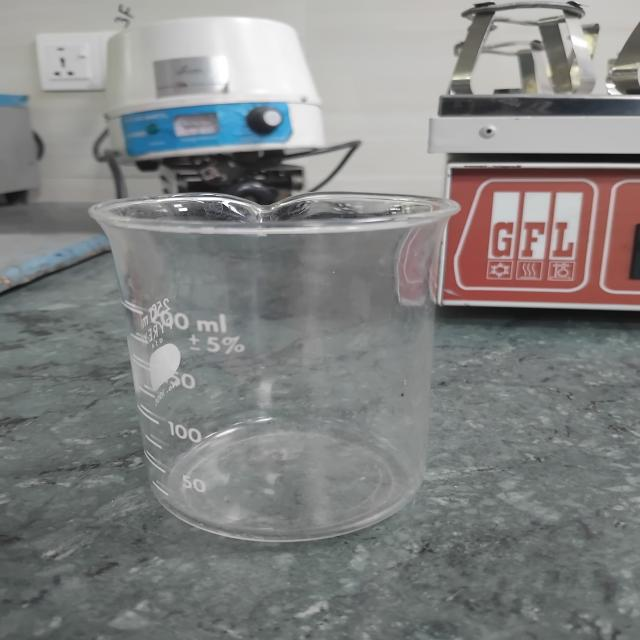Beaker: (63, 148, 503, 562)
